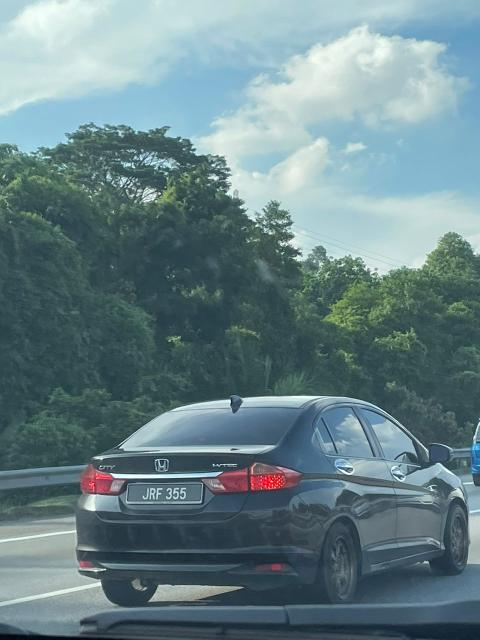License_Plate: (138, 482, 199, 507)
car: (71, 385, 477, 613)
